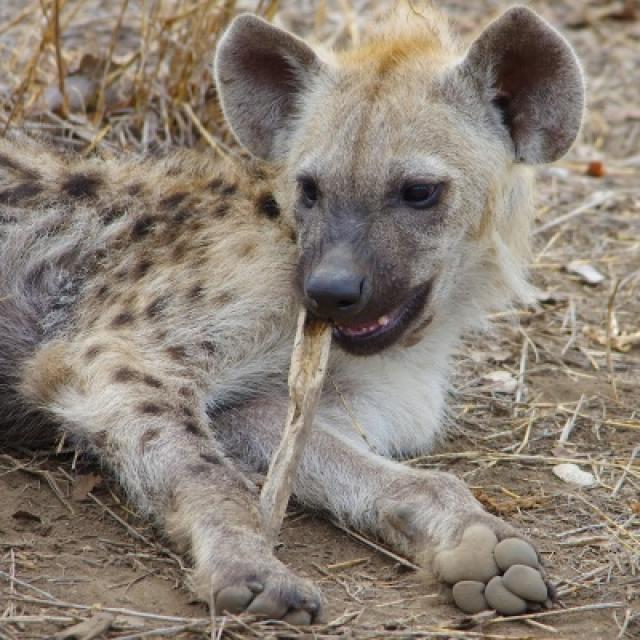hyena: (0, 2, 589, 627)
